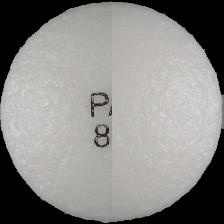49884-822: (0, 0, 224, 224)
